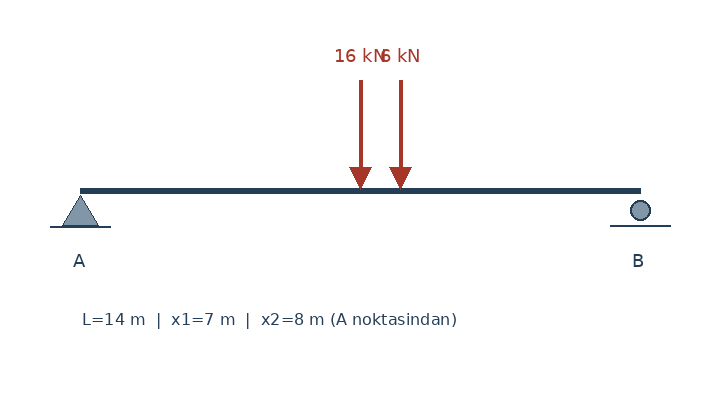pin_support: (61, 190, 99, 226)
point_load: (346, 76, 374, 190), (386, 76, 414, 190)
roller_support: (625, 196, 655, 227)
